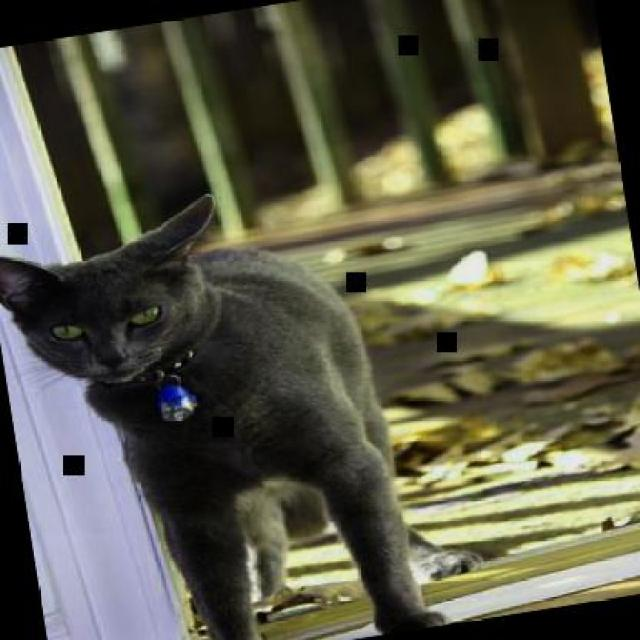cat: (0, 158, 491, 638)
